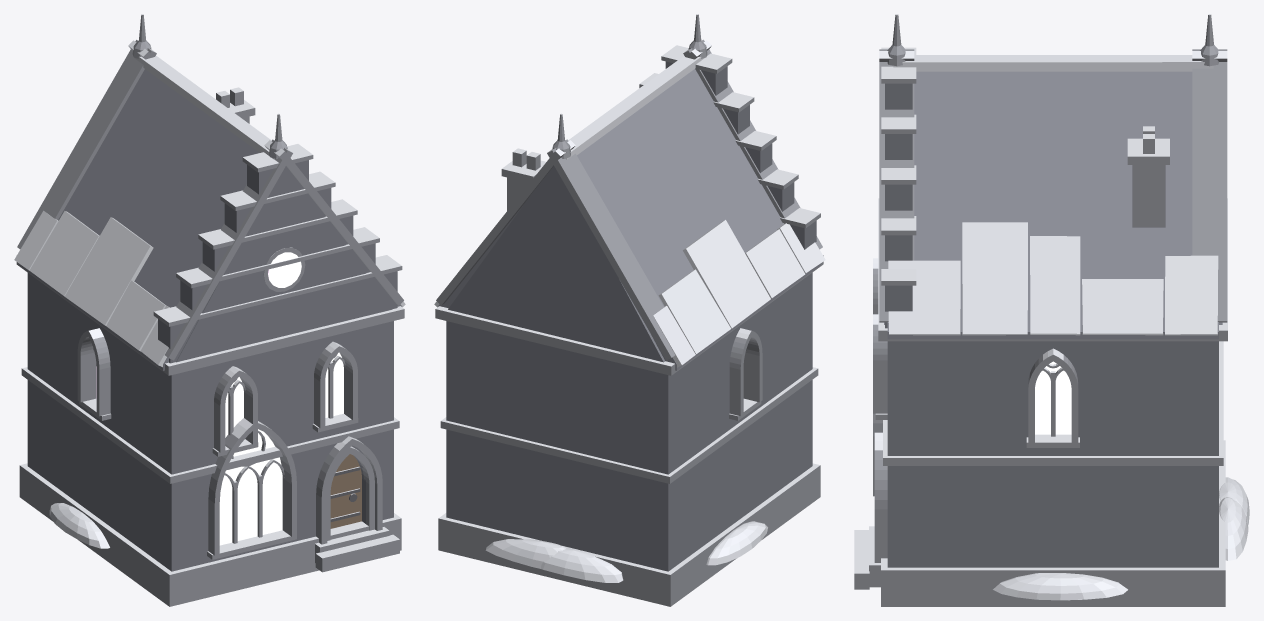
Rendered from AR_Casa_Mestre.fbx.
3 views of the same model, side by side, from view 1: azimuth 30°, elevation 25°; view 2: azimuth 150°, elevation 25°; view 3: azimuth 270°, elevation 25° (orthographic). The views are drawn at different scales.
Visible parts, largest first — view 1: AR_Casa_Mestre; view 2: AR_Casa_Mestre; view 3: AR_Casa_Mestre.
Part boxes in pixels (x1=…): AR_Casa_Mestre: x1=14, y1=14, x2=405, y2=606; AR_Casa_Mestre: x1=434, y1=14, x2=825, y2=606; AR_Casa_Mestre: x1=854, y1=14, x2=1249, y2=606.
Size of the model in its own units: 9.77 by 15.81 by 10.75.
